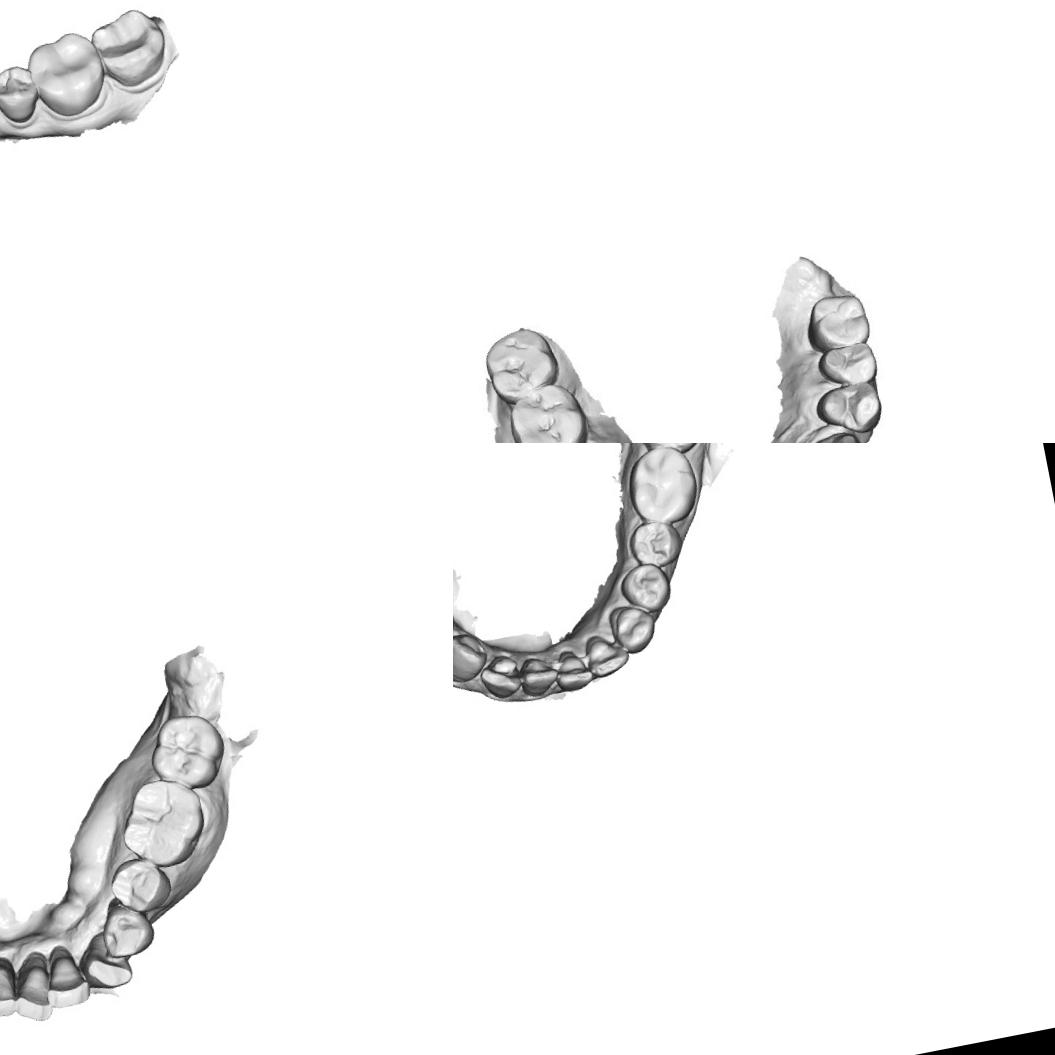canine: (72, 928, 138, 996), (604, 597, 662, 658), (453, 621, 497, 691), (807, 422, 874, 443)
incisor: (36, 942, 95, 1012), (6, 954, 59, 1026), (473, 649, 525, 705), (580, 628, 634, 681), (547, 644, 598, 696), (512, 650, 562, 702), (0, 957, 21, 1021)
molar: (109, 768, 214, 877), (21, 26, 112, 122), (140, 704, 233, 796), (86, 3, 174, 94), (619, 443, 706, 530), (478, 320, 563, 405), (503, 380, 588, 443), (802, 287, 873, 355), (627, 443, 711, 461)
premolar: (810, 375, 892, 439), (102, 851, 178, 920), (612, 555, 676, 620), (96, 900, 158, 962), (623, 514, 686, 573), (815, 334, 878, 388), (0, 60, 43, 127)
